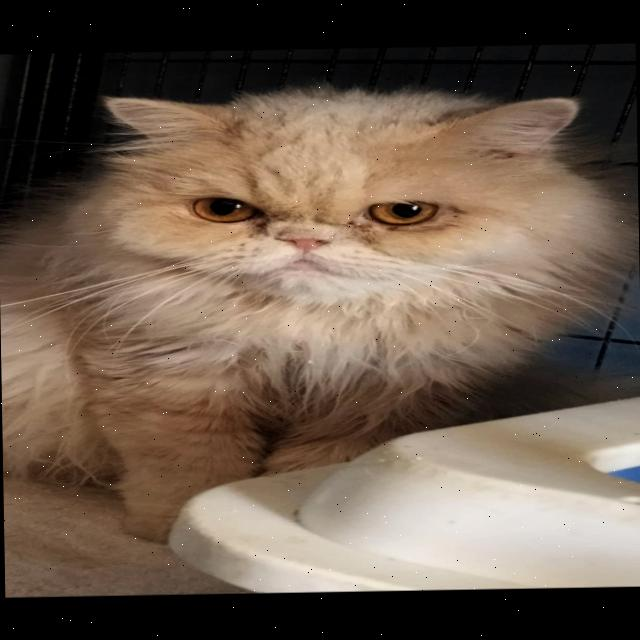persian_cat: (40, 80, 619, 323)
